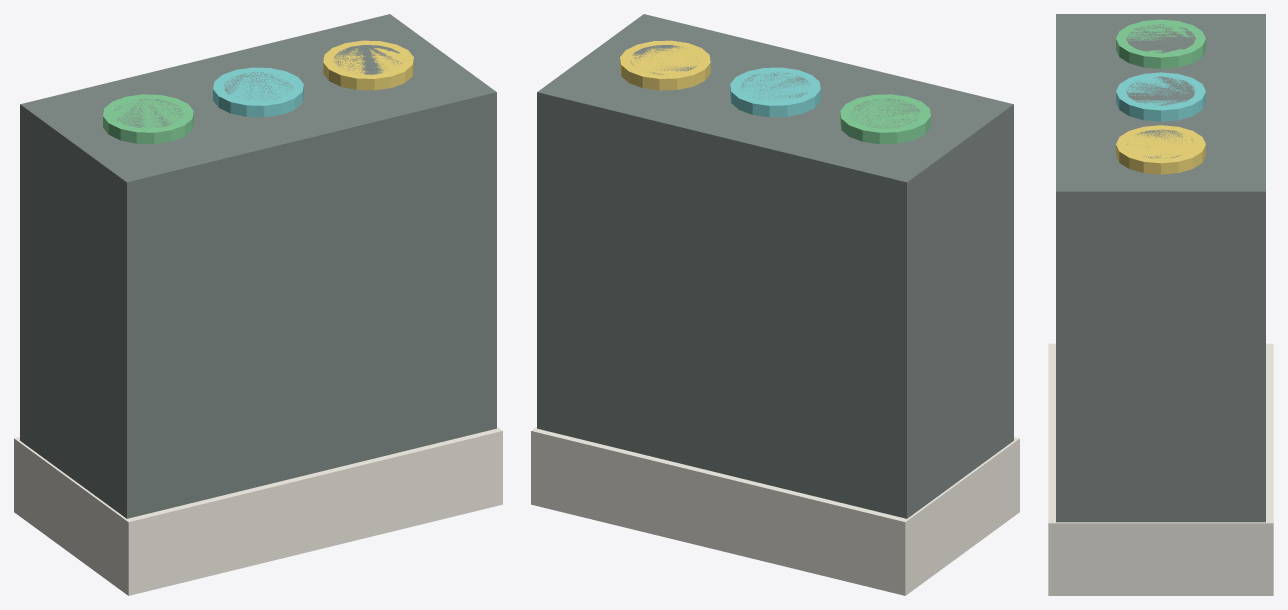
Rendered from RecyclingBin.fbx.
3 renders of one model, left to right at view 1: azimuth 30°, elevation 25°; view 2: azimuth 150°, elevation 25°; view 3: azimuth 270°, elevation 25°, orthographic.
Parts seen in each view (by area): view 1: Bin_Frame, Bin_Base, Aperture_Rim_1, Aperture_Rim_0, Aperture_Rim_2, Aperture_Slot_2, Aperture_Slot_0; view 2: Bin_Frame, Bin_Base, Aperture_Rim_1, Aperture_Rim_0, Aperture_Rim_2, Aperture_Slot_0; view 3: Bin_Frame, Bin_Base, Aperture_Rim_2, Aperture_Rim_1, Aperture_Rim_0, Aperture_Slot_0, Aperture_Slot_1, Aperture_Slot_2.
Part boxes in pixels (x1=…): Bin_Frame: x1=20, y1=14, x2=496, y2=518; Bin_Base: x1=14, y1=427, x2=502, y2=595; Aperture_Rim_1: x1=213, y1=67, x2=303, y2=117; Aperture_Rim_0: x1=103, y1=94, x2=193, y2=144; Aperture_Rim_2: x1=323, y1=40, x2=413, y2=90; Aperture_Slot_2: x1=334, y1=45, x2=402, y2=74; Aperture_Slot_0: x1=114, y1=99, x2=182, y2=128; Bin_Frame: x1=537, y1=14, x2=1013, y2=518; Bin_Base: x1=531, y1=427, x2=1019, y2=595; Aperture_Rim_1: x1=730, y1=67, x2=820, y2=117; Aperture_Rim_0: x1=840, y1=94, x2=930, y2=144; Aperture_Rim_2: x1=620, y1=40, x2=710, y2=90; Aperture_Slot_0: x1=850, y1=98, x2=920, y2=128; Bin_Frame: x1=1056, y1=14, x2=1265, y2=522; Bin_Base: x1=1048, y1=343, x2=1273, y2=595; Aperture_Rim_2: x1=1116, y1=125, x2=1205, y2=174; Aperture_Rim_1: x1=1116, y1=72, x2=1205, y2=121; Aperture_Rim_0: x1=1116, y1=19, x2=1205, y2=68; Aperture_Slot_0: x1=1126, y1=24, x2=1195, y2=53; Aperture_Slot_1: x1=1126, y1=76, x2=1195, y2=106; Aperture_Slot_2: x1=1126, y1=129, x2=1193, y2=158.
Bounding box in the file's own units: 85 × 91.75 × 45.
